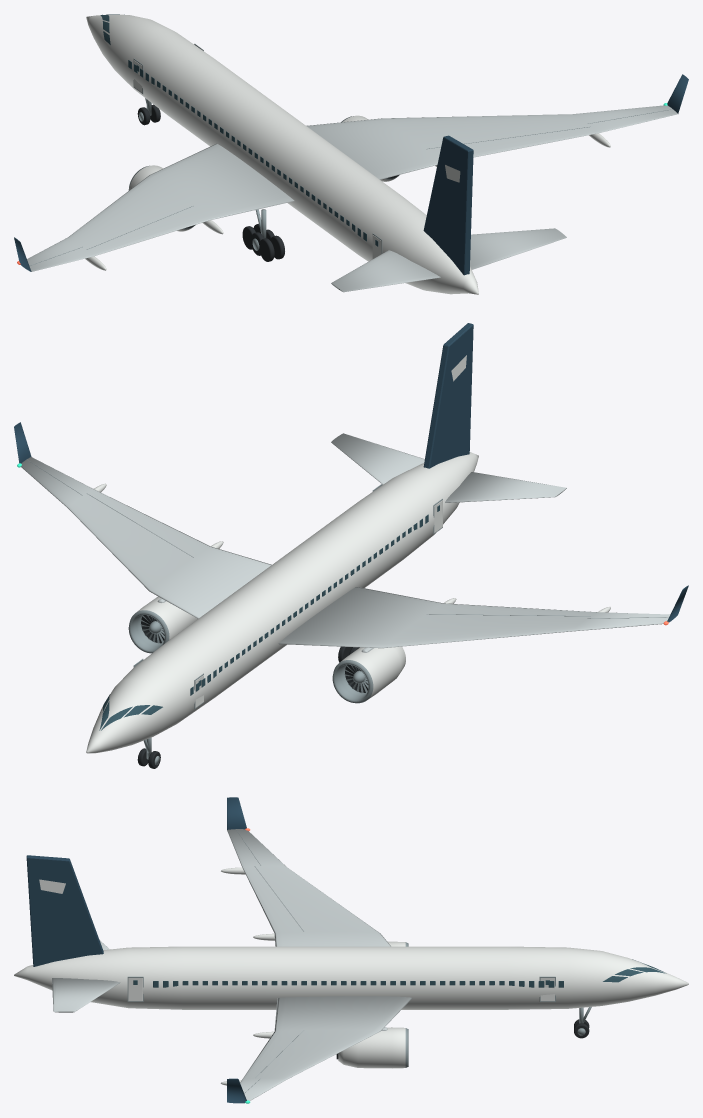
File: aircraft-widebody.glb
3 renders of one model, top to bottom at view 1: azimuth 30°, elevation 25°; view 2: azimuth 150°, elevation 25°; view 3: azimuth 270°, elevation 25°, orthographic. The views are drawn at different scales.
Visible parts, largest first — view 1: Aircraft.widebody.Wing, Aircraft.widebody.Airframe, Aircraft.widebody.Livery, Aircraft.widebody.Glass, Gear.Left.001.Tyres, Aircraft.widebody.Airframe.001, Aircraft.widebody.Metal; view 2: Aircraft.widebody.Airframe, Aircraft.widebody.Wing, Aircraft.widebody.Livery, Aircraft.widebody.Airframe.001, Aircraft.widebody.Glass, Aircraft.widebody.Metal; view 3: Aircraft.widebody.Airframe, Aircraft.widebody.Wing, Aircraft.widebody.Livery, Aircraft.widebody.Airframe.001, Aircraft.widebody.Glass.
Boxes of the visible parts, x1,y1,x2,y2 form: Aircraft.widebody.Wing: [27, 105, 677, 292]; Aircraft.widebody.Airframe: [85, 14, 610, 294]; Aircraft.widebody.Livery: [14, 74, 688, 275]; Aircraft.widebody.Glass: [100, 14, 378, 246]; Gear.Left.001.Tyres: [242, 223, 284, 261]; Aircraft.widebody.Airframe.001: [128, 115, 399, 231]; Aircraft.widebody.Metal: [29, 43, 672, 265]; Aircraft.widebody.Airframe: [86, 355, 610, 753]; Aircraft.widebody.Wing: [21, 433, 670, 652]; Aircraft.widebody.Livery: [14, 323, 688, 622]; Aircraft.widebody.Airframe.001: [128, 596, 405, 703]; Aircraft.widebody.Glass: [99, 505, 439, 730]; Aircraft.widebody.Metal: [26, 459, 668, 709]; Aircraft.widebody.Airframe: [14, 867, 688, 1085]; Aircraft.widebody.Wing: [52, 829, 412, 1100]; Aircraft.widebody.Livery: [26, 797, 246, 1103]; Aircraft.widebody.Airframe.001: [338, 941, 408, 1068]; Aircraft.widebody.Glass: [133, 959, 666, 987].
Size of the model in its own units: 63.04 by 18.76 by 63.94.
